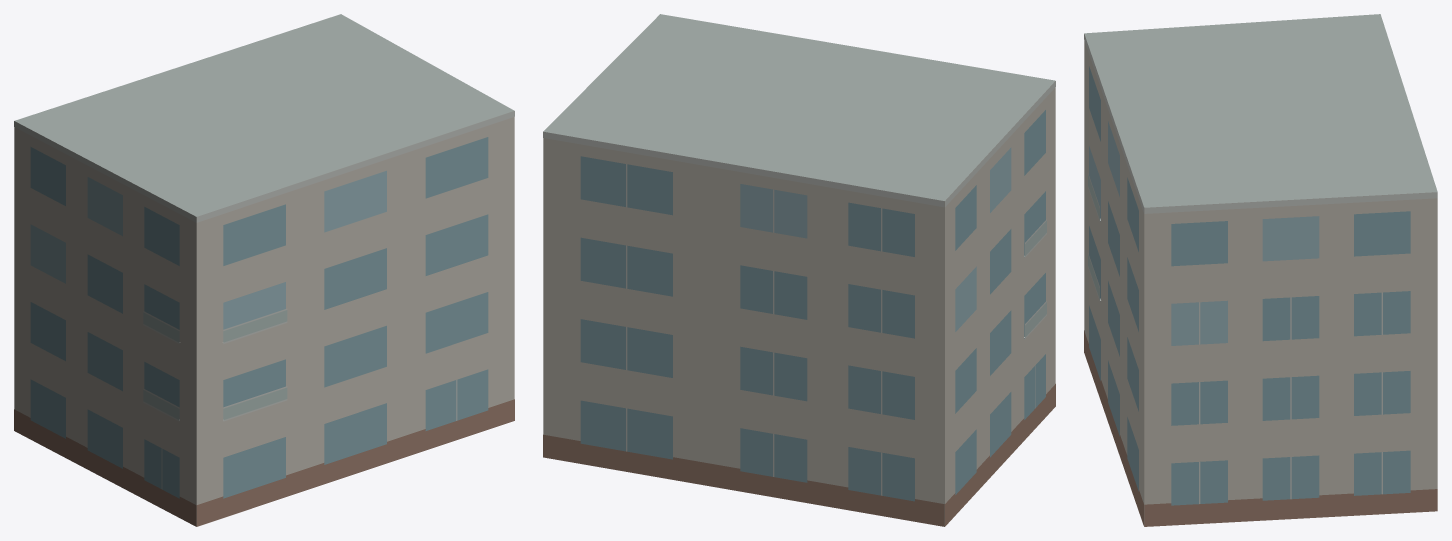
The model's file is survey-upis-32927724.glb.
3 renders of one model, left to right at view 1: azimuth 30°, elevation 25°; view 2: azimuth 150°, elevation 25°; view 3: azimuth 270°, elevation 25°, orthographic. The views are drawn at different scales.
Visible parts, largest first — view 1: survey-upis-32927724.tmp; view 2: survey-upis-32927724.tmp; view 3: survey-upis-32927724.tmp.
Part boxes in pixels (x1,y1,x2,y2): survey-upis-32927724.tmp: (14,14,514,526); survey-upis-32927724.tmp: (543,14,1055,526); survey-upis-32927724.tmp: (1084,14,1437,526).
Size of the model in its own units: 16.42 by 12.6 by 12.66.
